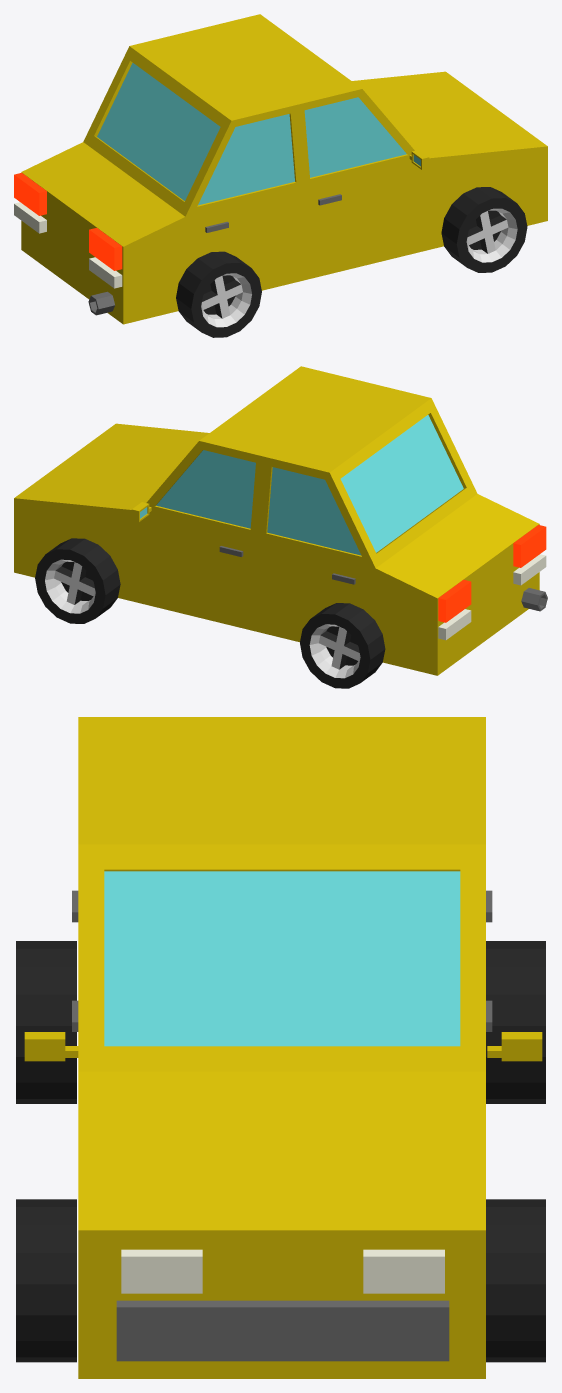
File: car.fbx
The picture shows the model from 3 angles, top to bottom: view 1: azimuth 30°, elevation 25°; view 2: azimuth 150°, elevation 25°; view 3: azimuth 270°, elevation 25°; orthographic projection. The views are drawn at different scales.
Parts seen in each view (by area): view 1: Cube, Wheel.001, Wheel; view 2: Cube, Wheel.002, Wheel.003; view 3: Cube, Wheel, Wheel.002, Wheel.001, Wheel.003.
Part boxes in pixels (bbox=[...]): Cube: bbox=[14, 14, 547, 324]; Wheel.001: bbox=[176, 251, 261, 337]; Wheel: bbox=[441, 187, 527, 272]; Cube: bbox=[14, 366, 547, 675]; Wheel.002: bbox=[35, 538, 120, 623]; Wheel.003: bbox=[300, 603, 385, 688]; Cube: bbox=[24, 717, 542, 1378]; Wheel: bbox=[16, 1199, 76, 1362]; Wheel.002: bbox=[486, 1199, 545, 1362]; Wheel.001: bbox=[16, 941, 76, 1103]; Wheel.003: bbox=[486, 941, 545, 1103].
Bounding box in the file's own units: 507 × 216 × 260.
